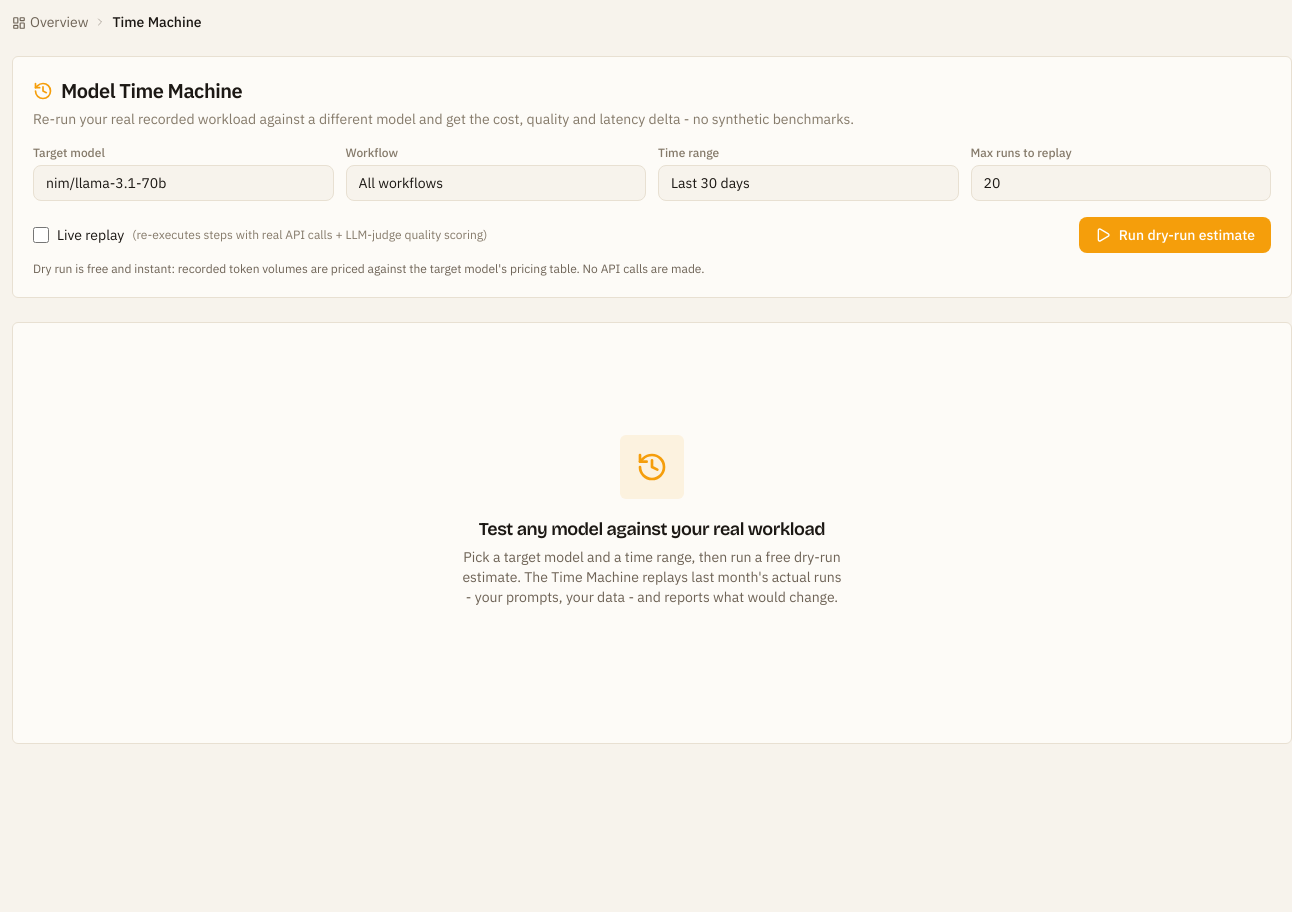
Test: TimeMachinePage › runs a dry-run job and renders the report after polling
The width and height of the screenshot is (1292, 912).
Click the button "Run dry-run estimate" at (1175, 235), box [1079,217,1271,253]
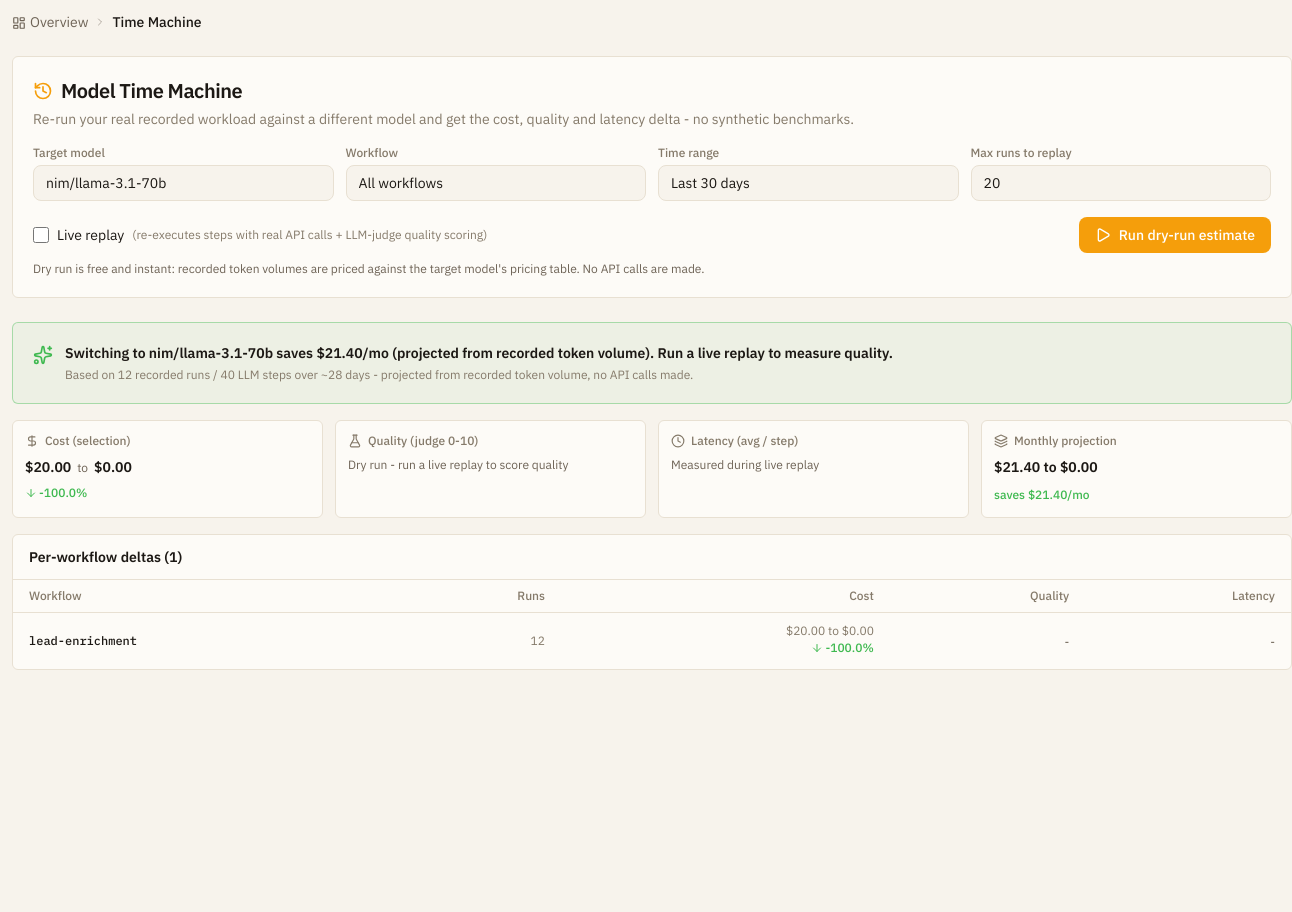
Now the element with test id "tm-verdict" is shown, box [12,322,1291,404]
Now the text "saves $21.40/mo" is shown, box [65,344,893,362]
Now the heading "Per-workflow deltas (1)" is shown, box [29,548,182,566]
